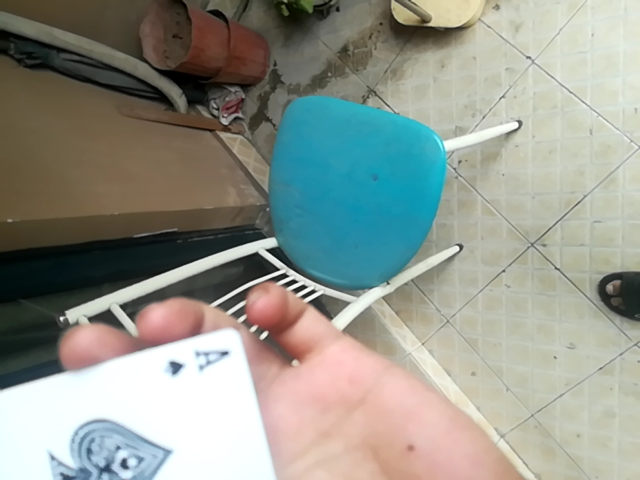ht a: (3, 322, 290, 480)
